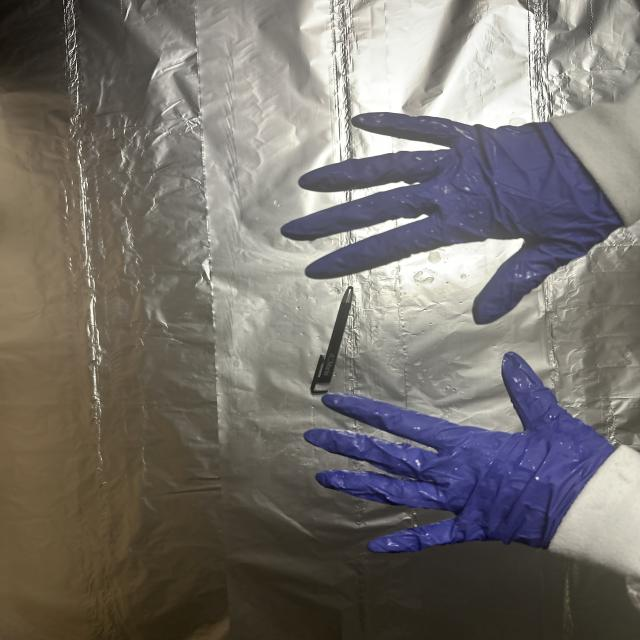gloves_contaminated: (282, 113, 622, 324), (305, 352, 613, 552)
